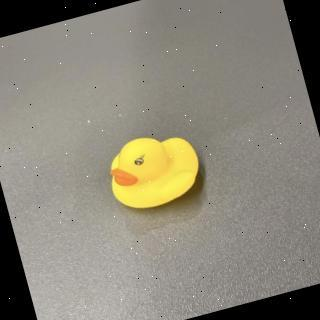duck_regular: (101, 123, 208, 217)
